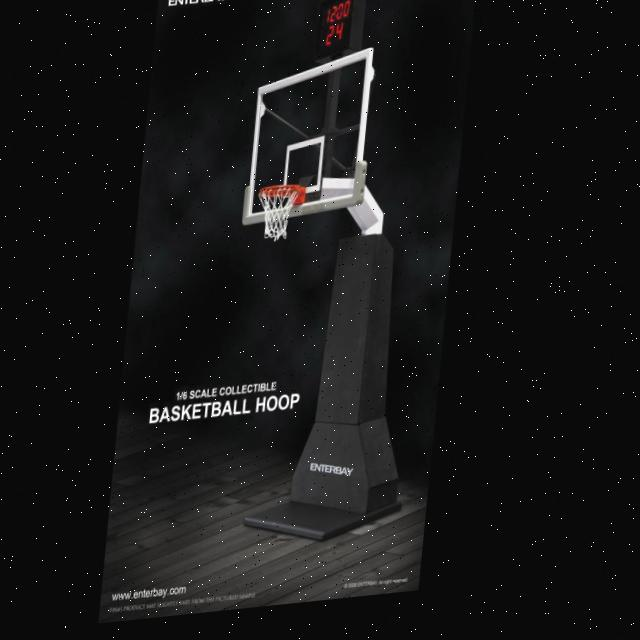hoop: (254, 183, 302, 243)
